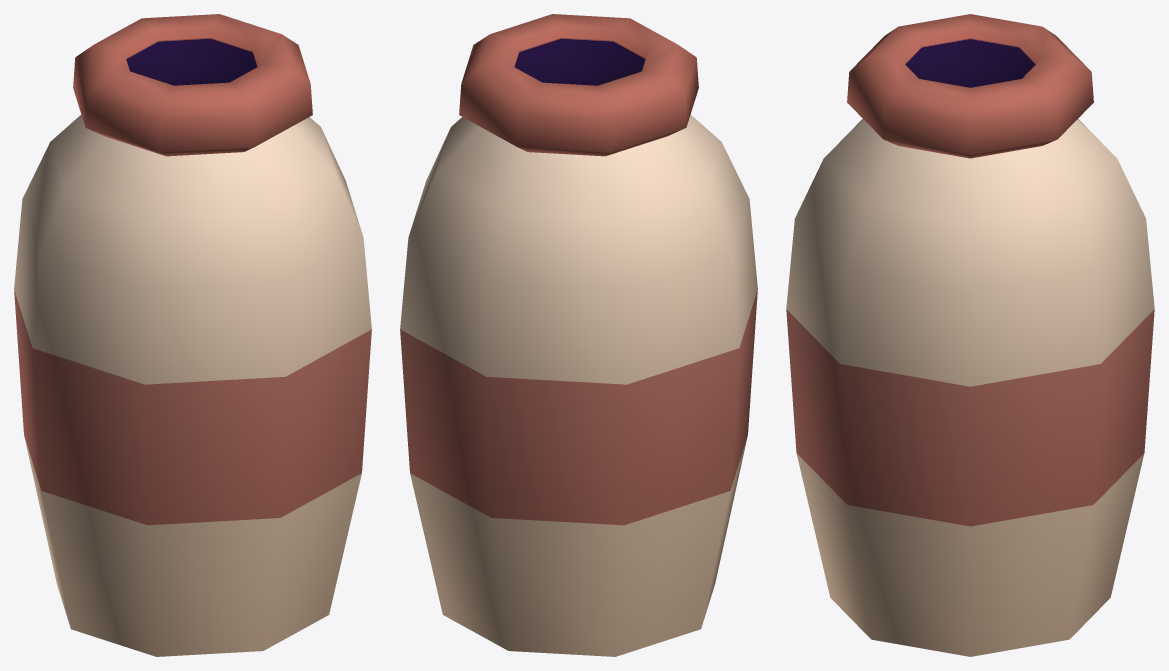
File: Vase9.fbx
The picture shows the model from 3 angles, left to right: view 1: azimuth 30°, elevation 25°; view 2: azimuth 150°, elevation 25°; view 3: azimuth 270°, elevation 25°; orthographic projection.
Parts seen in each view (by area): view 1: Vase9; view 2: Vase9; view 3: Vase9.
Boxes of the visible parts, x1,y1,x2,y2 form: Vase9: [14, 14, 371, 656]; Vase9: [400, 14, 757, 656]; Vase9: [786, 14, 1154, 656].
Bounding box in the file's own units: 52.56 × 85.1 × 52.56.
